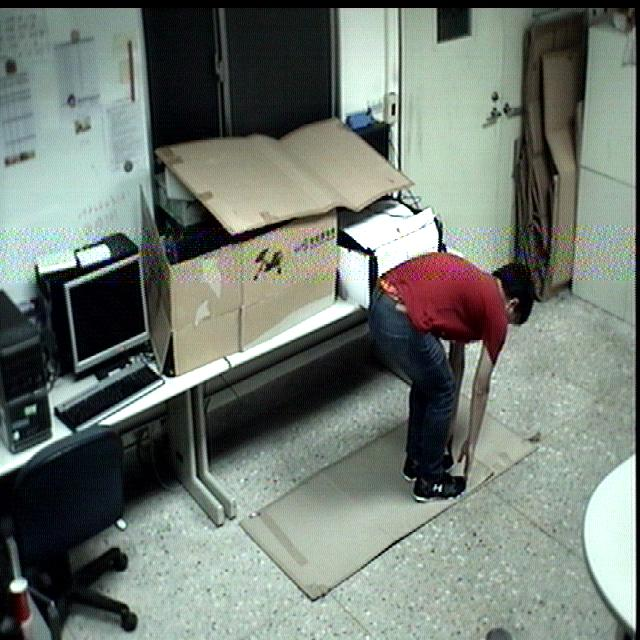bend: (362, 250, 540, 507)
